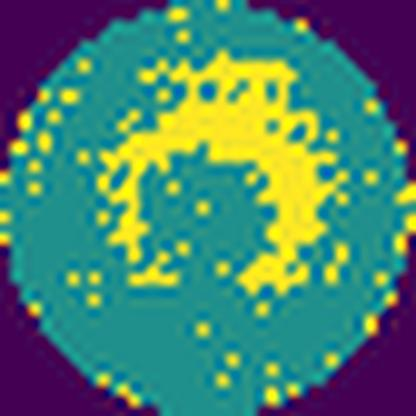Donut: (95, 52, 352, 300)
